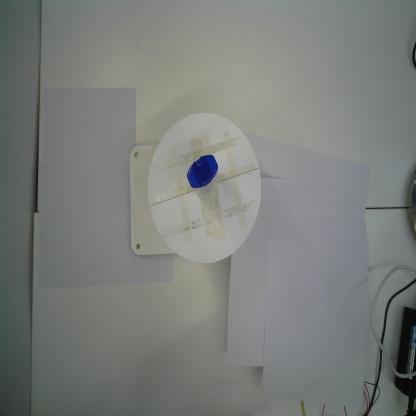Personal Hygiene: (186, 154, 219, 196)
